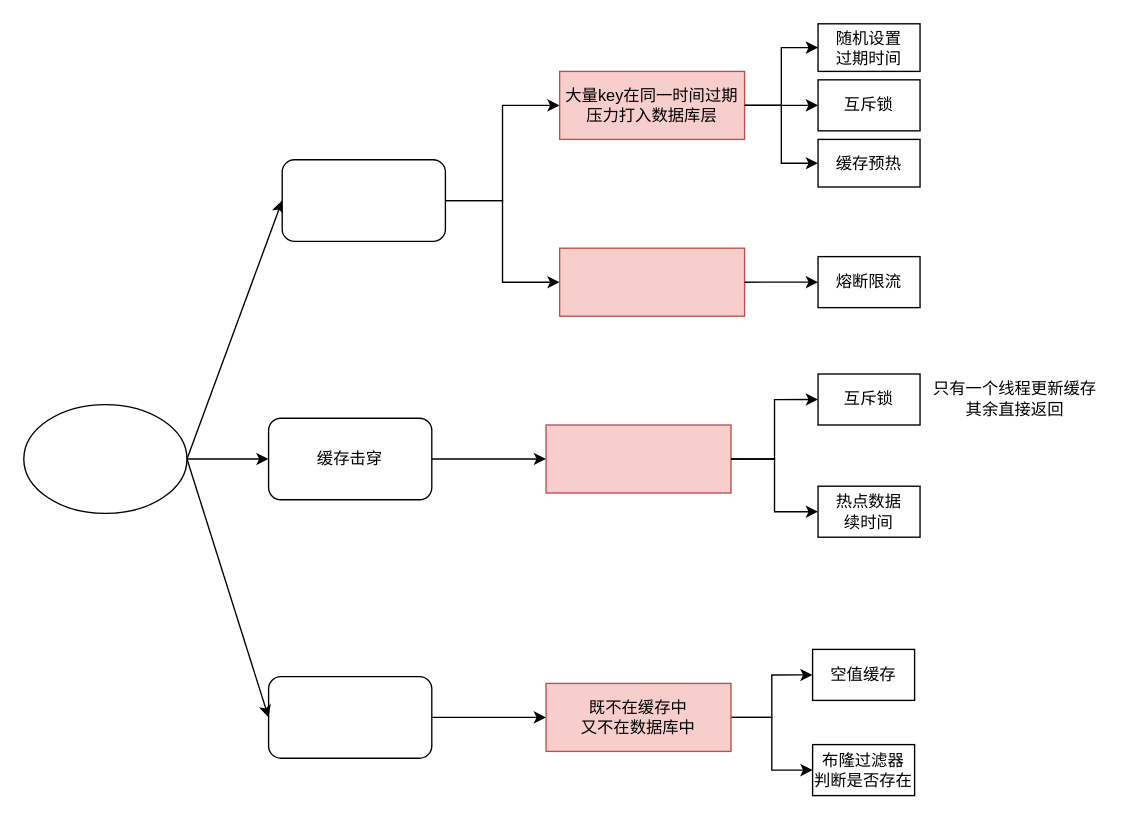
The diagram is 1134 pixels wide and 820 high, and some of its shapes have lost their labels. The centre of each missing label's shape, as x and y in pixels:
Redis宕机: the point at 651,281
热点数据过期 大量请求打入数据库层: the point at 638,458
缓存穿透: the point at 349,716
缓存问题: the point at 104,458
缓存雪崩: the point at 363,199
